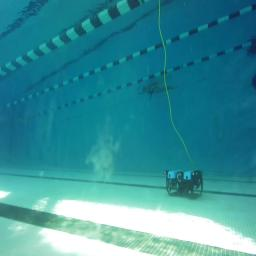front: (163, 169, 205, 201)
